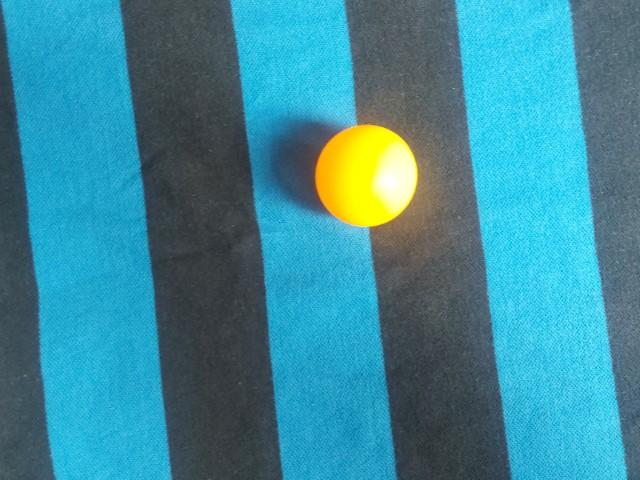oball: (216, 249, 330, 360)
